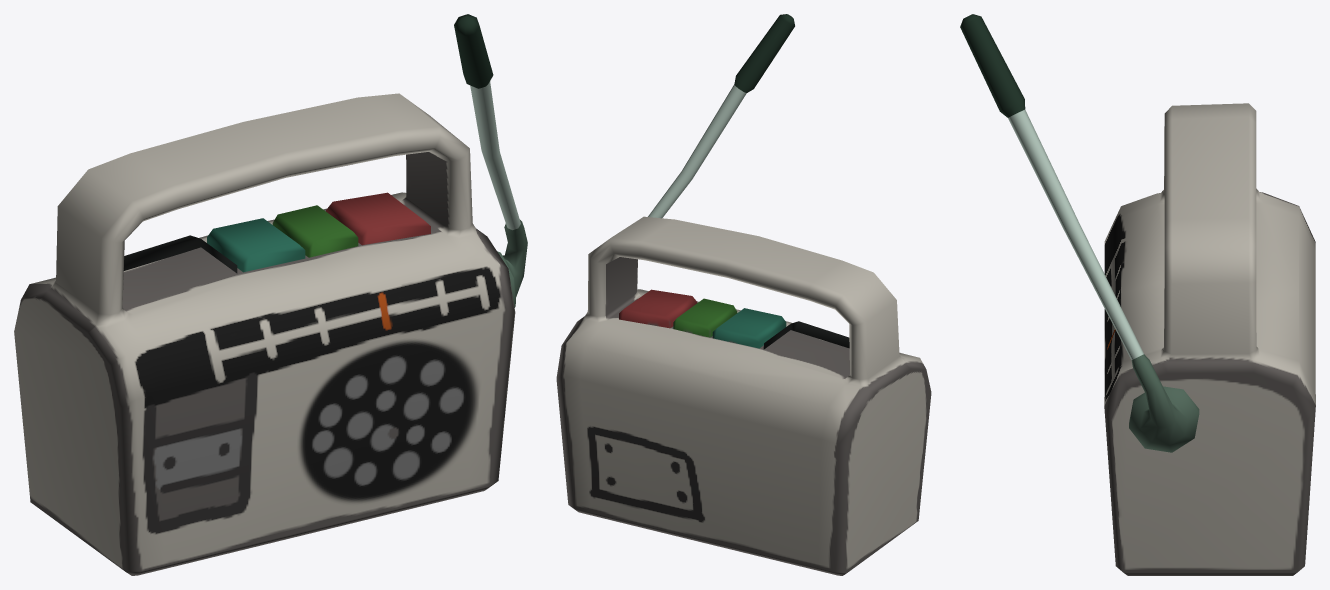
Rendered from radio.gltf.
The picture shows the model from 3 angles, left to right: view 1: azimuth 30°, elevation 25°; view 2: azimuth 150°, elevation 25°; view 3: azimuth 270°, elevation 25°; orthographic projection. The views are drawn at different scales.
Visible parts, largest first — view 1: Cube.017; view 2: Cube.017; view 3: Cube.017.
Part boxes in pixels (x1,y1,x2,y2): Cube.017: [14, 14, 527, 575]; Cube.017: [556, 14, 931, 575]; Cube.017: [960, 14, 1315, 575].
Size of the model in its own units: 0.8627 by 1.07 by 0.6697.
Materials: 2 (1 with a texture image).
